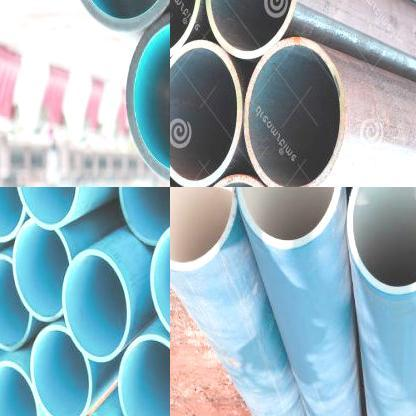pipe: (243, 38, 345, 187), (170, 39, 241, 187), (62, 248, 130, 362), (126, 10, 170, 185), (347, 187, 416, 295), (235, 187, 343, 249), (12, 219, 71, 321), (30, 324, 92, 416), (204, 0, 298, 59), (170, 187, 236, 270), (118, 333, 170, 416), (0, 253, 32, 351), (118, 187, 170, 244), (15, 187, 79, 230), (150, 219, 170, 345), (0, 360, 38, 416), (0, 187, 26, 241), (199, 175, 279, 187)
